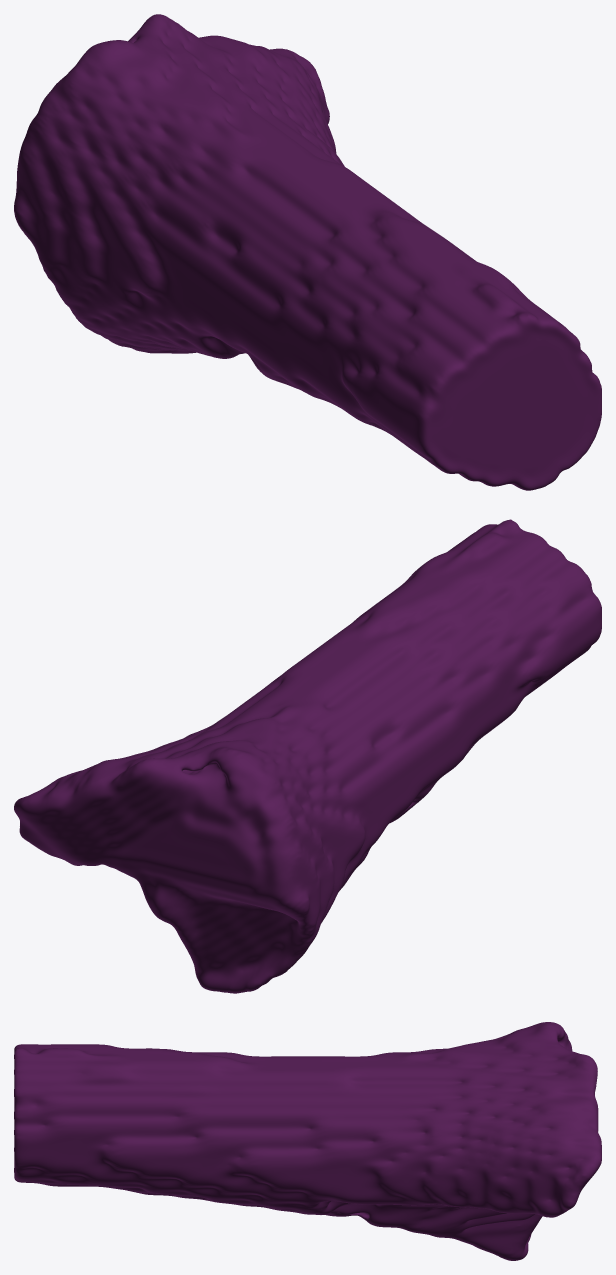
File: proximal_102.obj
3 views of the same model, one above another, from view 1: azimuth 30°, elevation 25°; view 2: azimuth 150°, elevation 25°; view 3: azimuth 270°, elevation 25° (orthographic). The views are drawn at different scales.
Parts seen in each view (by area): view 1: 2_JOINT_SC_3_segmentation.016; view 2: 2_JOINT_SC_3_segmentation.016; view 3: 2_JOINT_SC_3_segmentation.016.
Part boxes in pixels (bbox=[...]): 2_JOINT_SC_3_segmentation.016: bbox=[14, 14, 601, 490]; 2_JOINT_SC_3_segmentation.016: bbox=[14, 519, 601, 993]; 2_JOINT_SC_3_segmentation.016: bbox=[14, 1022, 601, 1260].
Bounding box in the file's own units: 0.0452 × 0.0408 × 0.0996.
